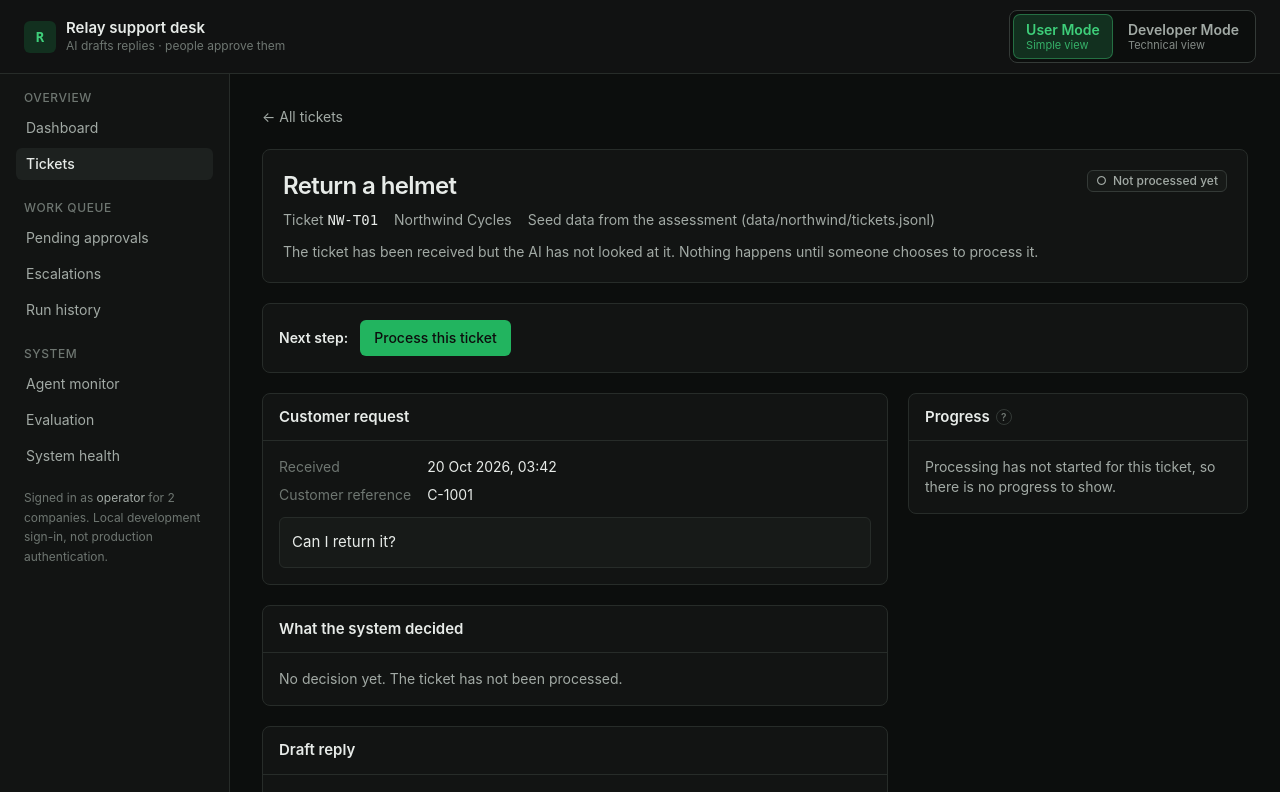
Scenario: ticket processing only happens on an explicit, confirmed request › names the exact ticket, can be cancelled, and sends exactly one request
What coordinates should you click on to do the following:
click the button "Process this ticket"
I would click on:
 (436, 338)
Its box is [360,320,511,356].
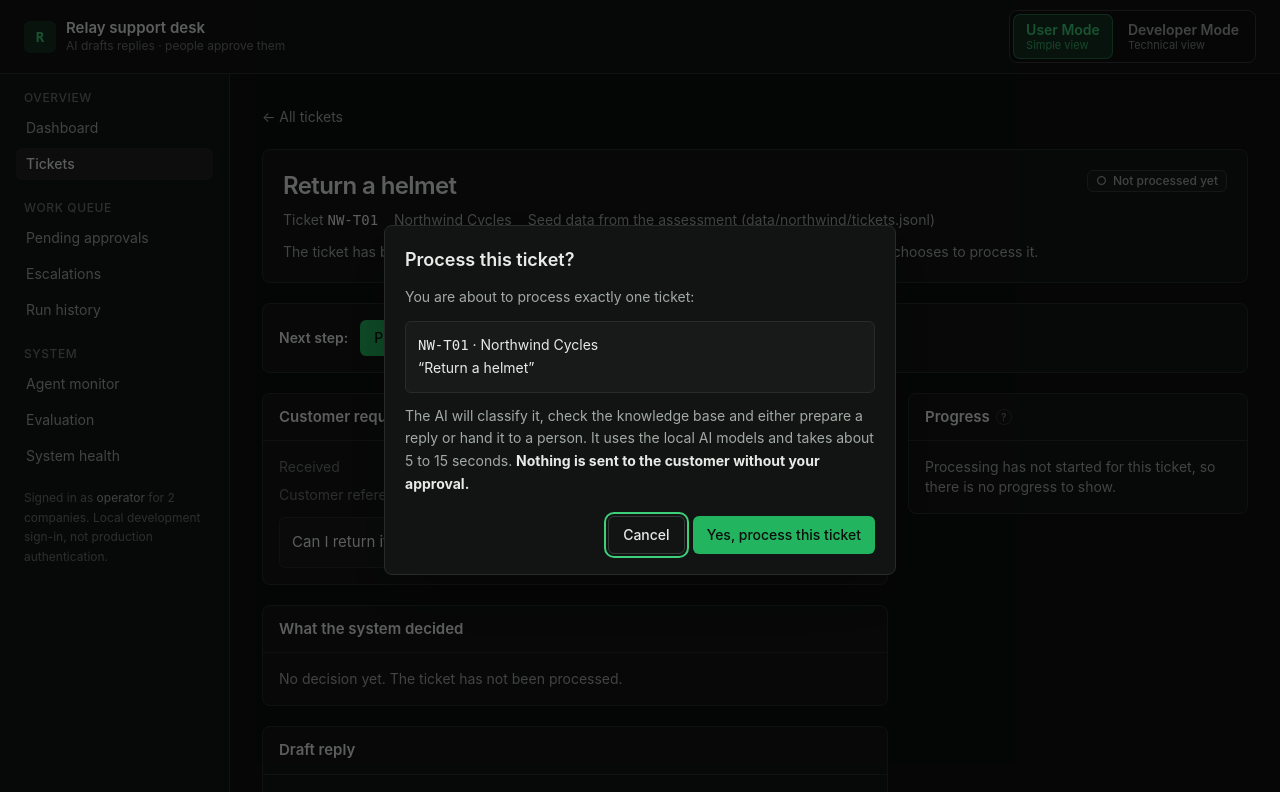
expect the text "NW-T01" is shown: met, box [418,337,469,353]
expect the text "NW-T01 · Northwind Cycles“Return a helmet”" is shown: met, box [405,321,875,393]
What coordinates should you click on to do the following:
click the button "Cancel"
I would click on:
 (646, 535)
Its box is [608,516,685,554].
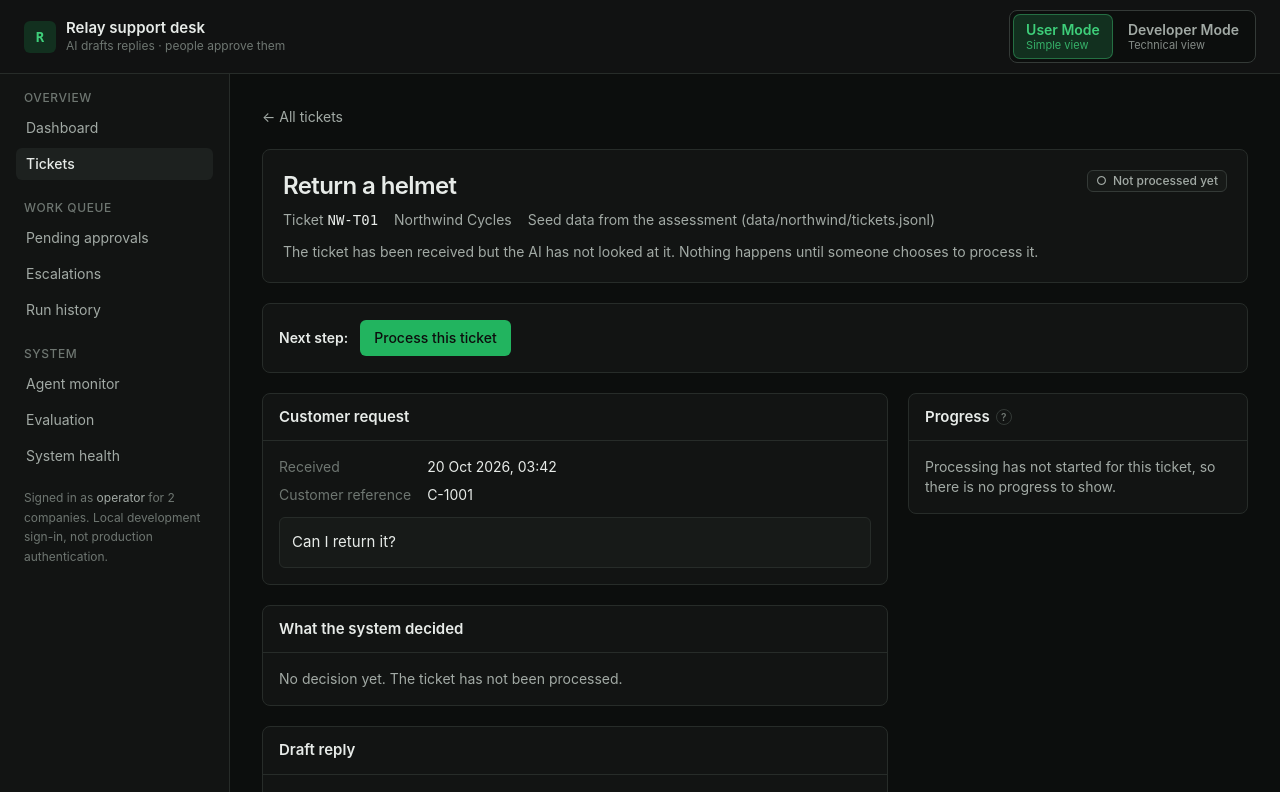
What coordinates should you click on to do the following:
click the button "Process this ticket"
I would click on:
 (436, 338)
Its box is [360,320,511,356].
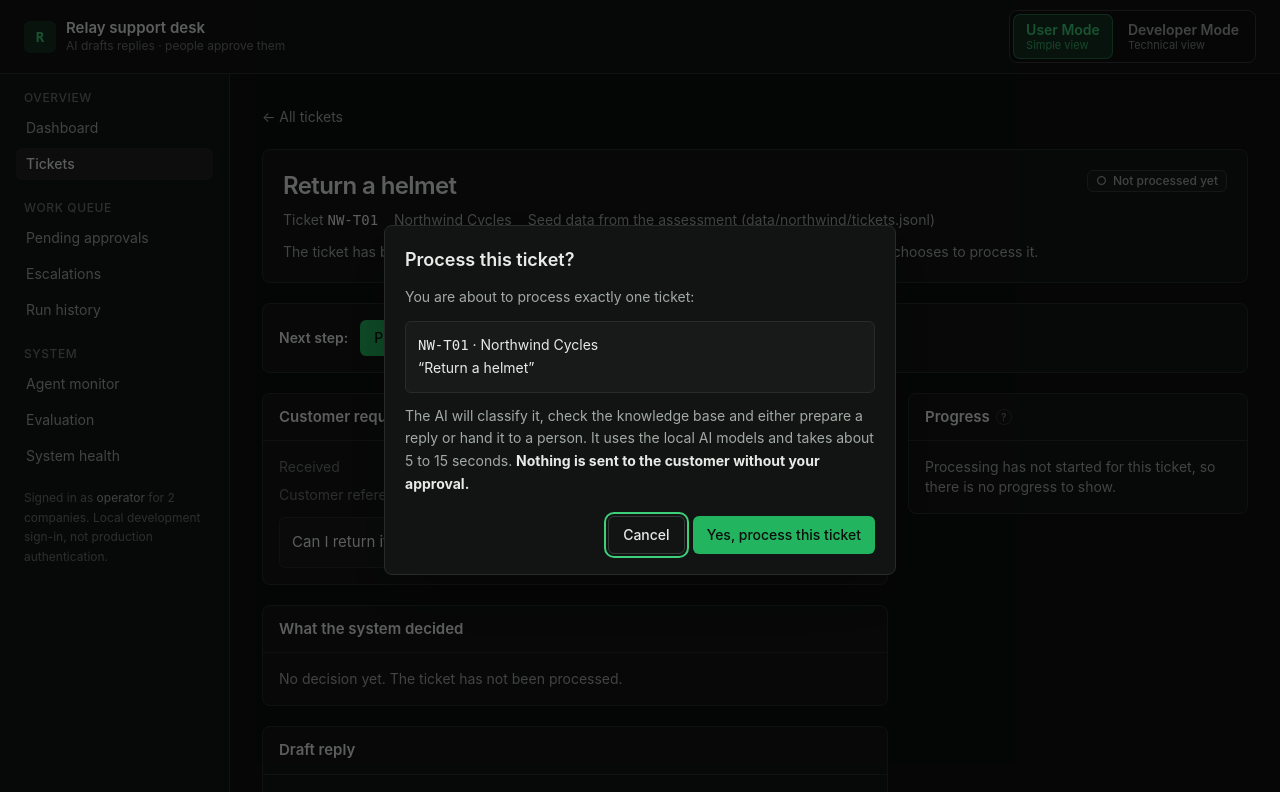
What coordinates should you click on to do the following:
click the button "Yes, process this ticket"
I would click on:
 (784, 535)
Its box is [693,516,875,554].
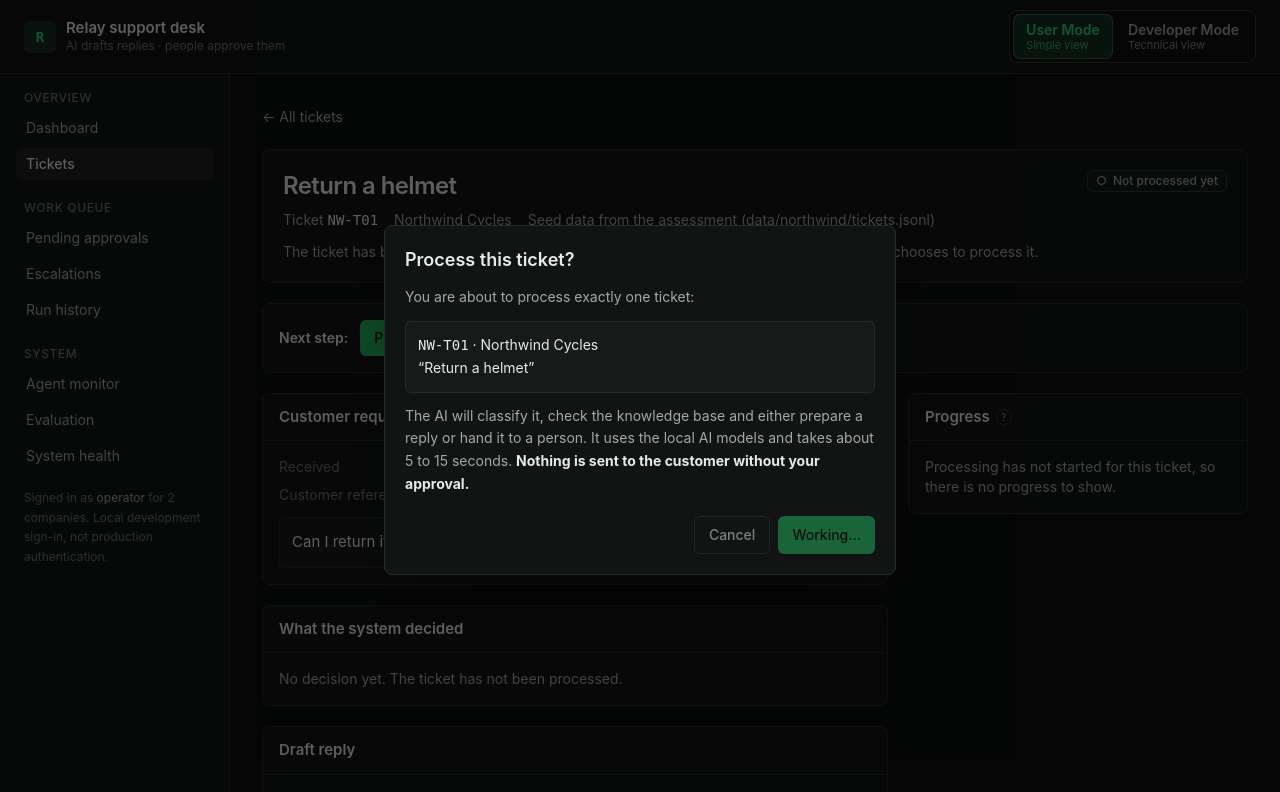
What coordinates should you click on to do the following:
click the button named "Yes, process this ticket"
I would click on:
 (827, 535)
Its box is [778,516,875,554].
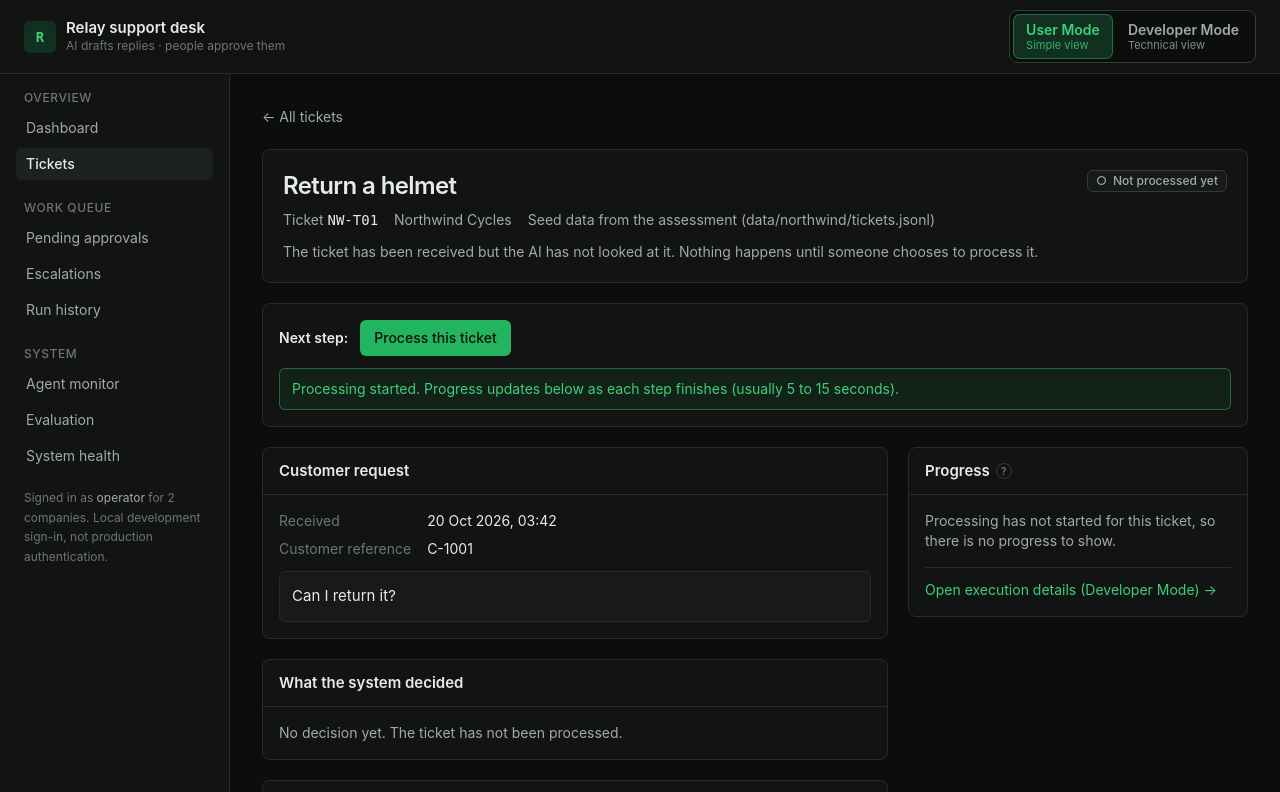
expect the text "Processing started" is shown: met, box [292,380,899,397]
